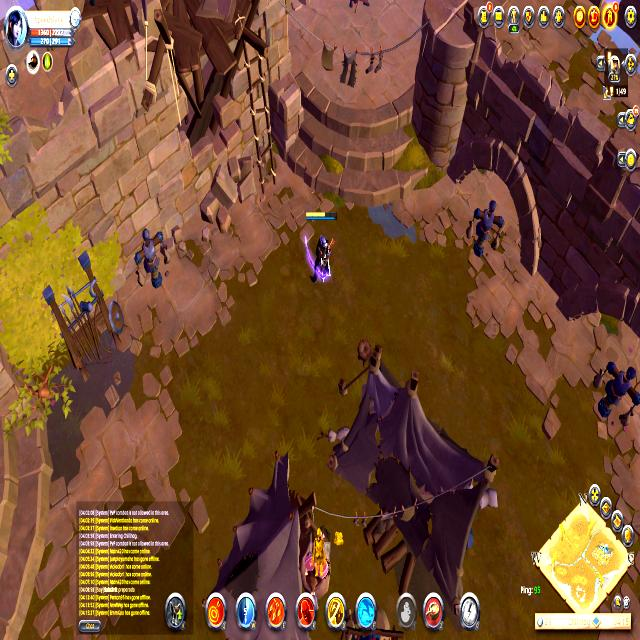red: (298, 206, 340, 291)
